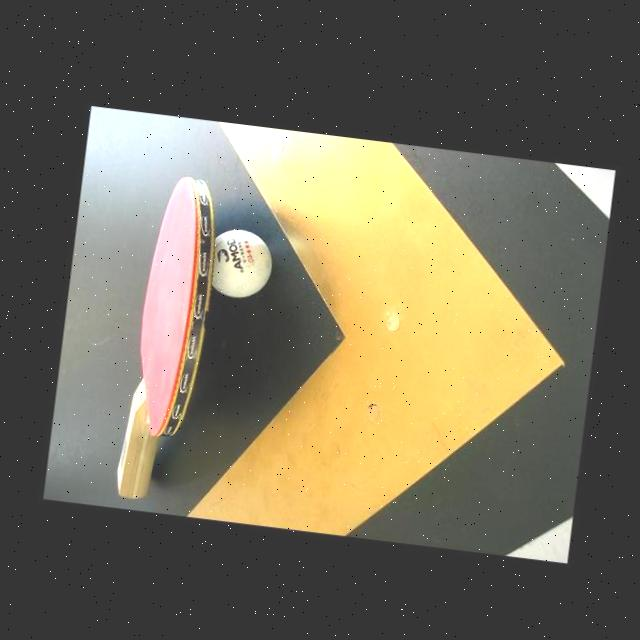ping-pong-ball: (198, 226, 276, 302)
